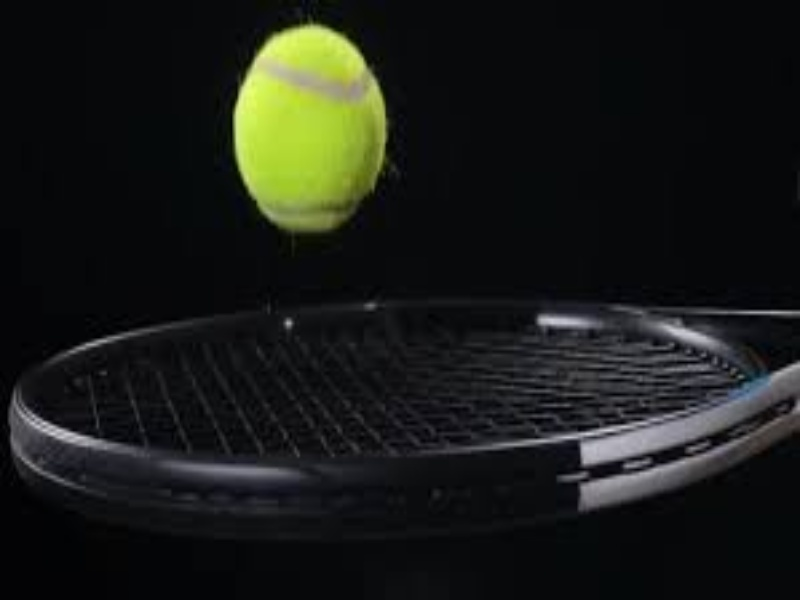tennis ball: (217, 18, 394, 242)
